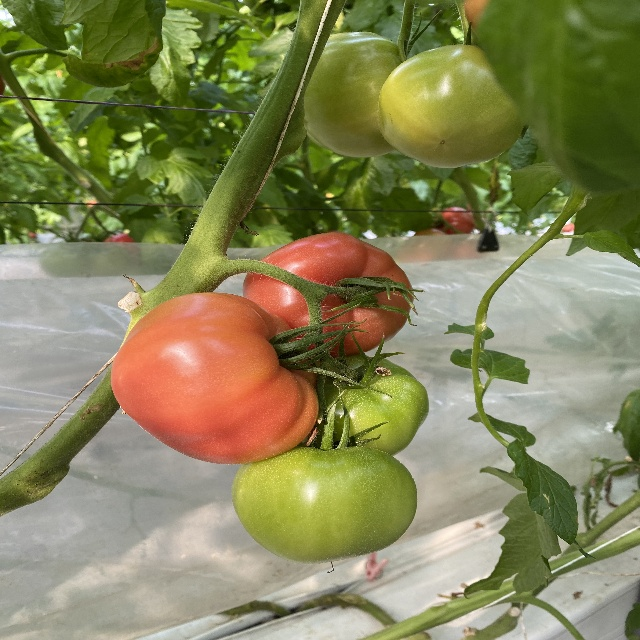b_fully_ripened: (111, 292, 320, 465), (242, 231, 414, 359)
b_green: (231, 446, 418, 566), (378, 44, 527, 168), (299, 354, 431, 456), (296, 31, 402, 156)
